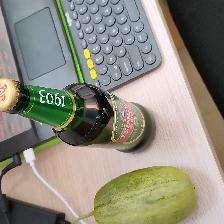gua: (83, 166, 194, 220)
